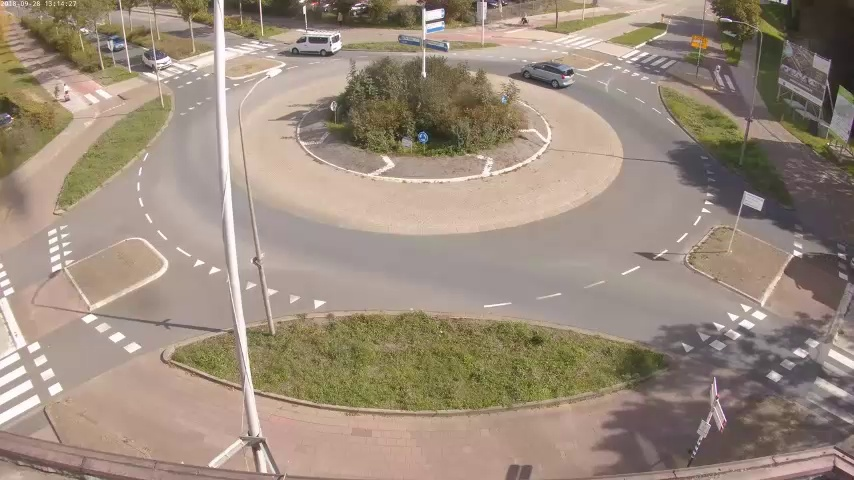car: (520, 61, 575, 89), (137, 50, 170, 69), (104, 35, 121, 54)
van: (289, 32, 343, 56)
